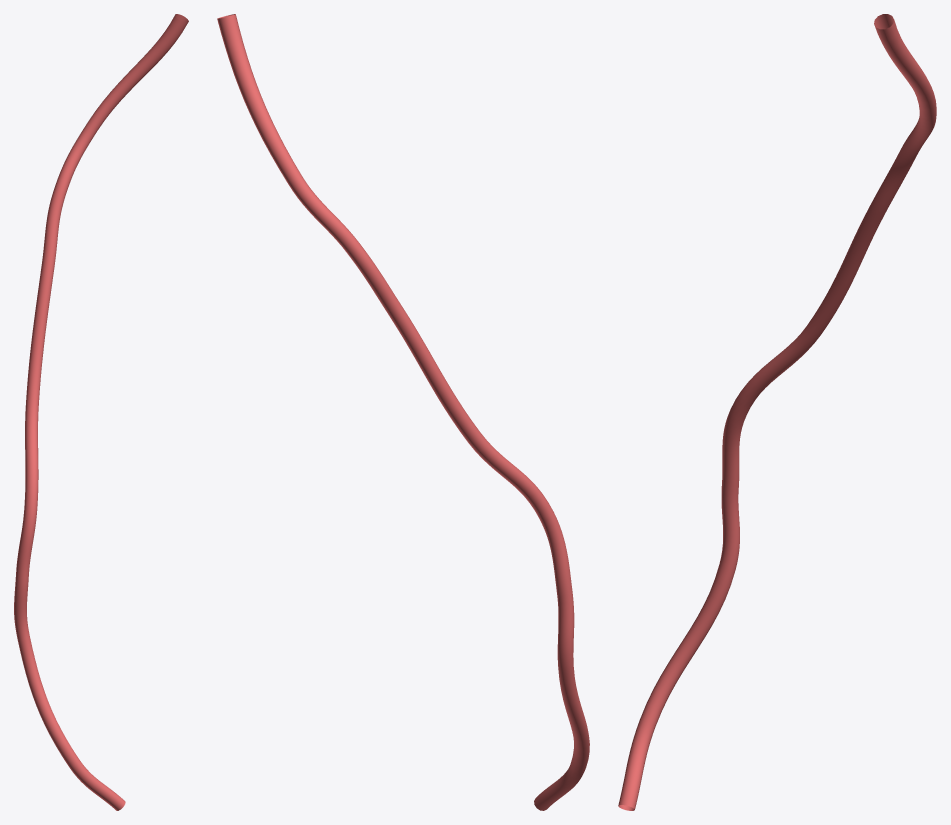
Rendered from Radial_collateral_artery.r_BezierCurve.149.glb.
3 views of the same model, side by side, from view 1: azimuth 30°, elevation 25°; view 2: azimuth 150°, elevation 25°; view 3: azimuth 270°, elevation 25° (orthographic). The views are drawn at different scales.
Visible parts, largest first — view 1: Radial_collateral_artery.r_BezierCurve.149; view 2: Radial_collateral_artery.r_BezierCurve.149; view 3: Radial_collateral_artery.r_BezierCurve.149.
Part boxes in pixels (x1,y1,x2,y2): Radial_collateral_artery.r_BezierCurve.149: (14,14,188,810); Radial_collateral_artery.r_BezierCurve.149: (217,14,589,810); Radial_collateral_artery.r_BezierCurve.149: (618,14,936,810).
Bounding box in the file's own units: 0.0509 × 0.1437 × 0.0462.
